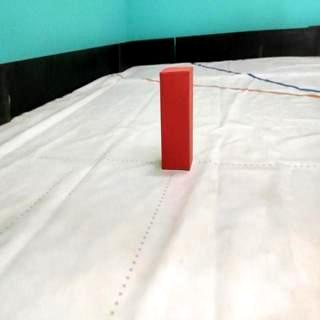redbox: (158, 64, 194, 171)
